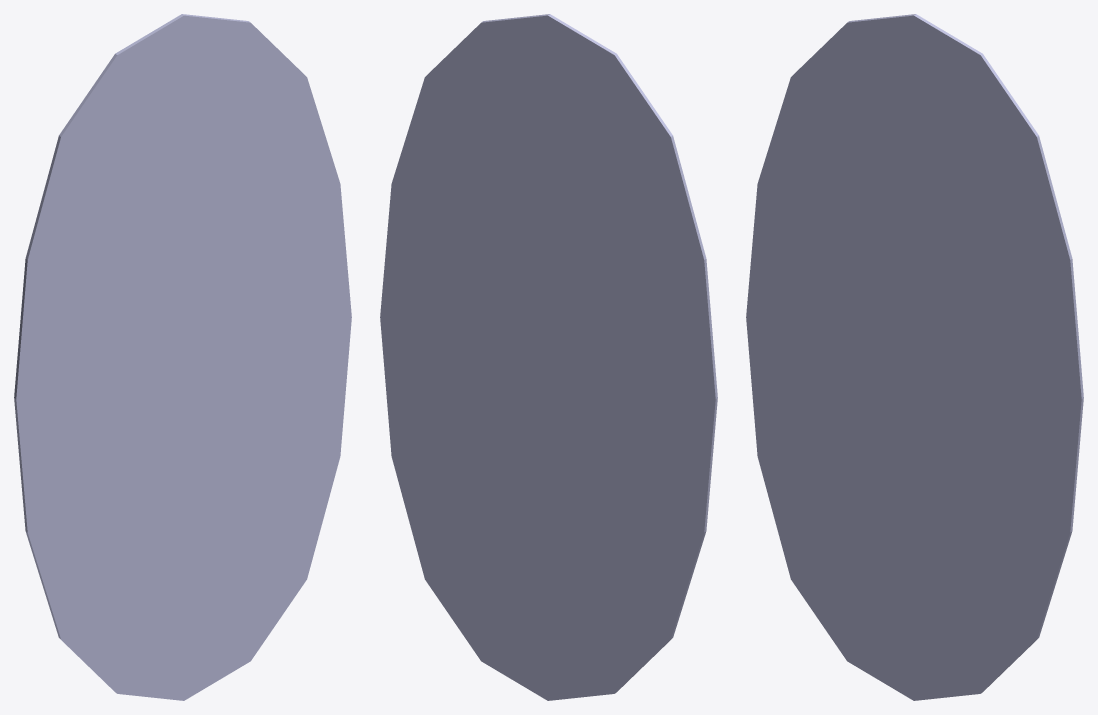
The model's file is m_Rugoval.fbx.
3 renders of one model, left to right at view 1: azimuth 30°, elevation 25°; view 2: azimuth 150°, elevation 25°; view 3: azimuth 330°, elevation 25°, orthographic.
Visible parts, largest first — view 1: m_rugoval; view 2: m_rugoval; view 3: m_rugoval.
Part boxes in pixels (x1,y1,x2,y2): m_rugoval: (14,14,351,700); m_rugoval: (380,14,717,700); m_rugoval: (746,14,1083,700).
Size of the model in its own units: 266 by 519 by 3.
